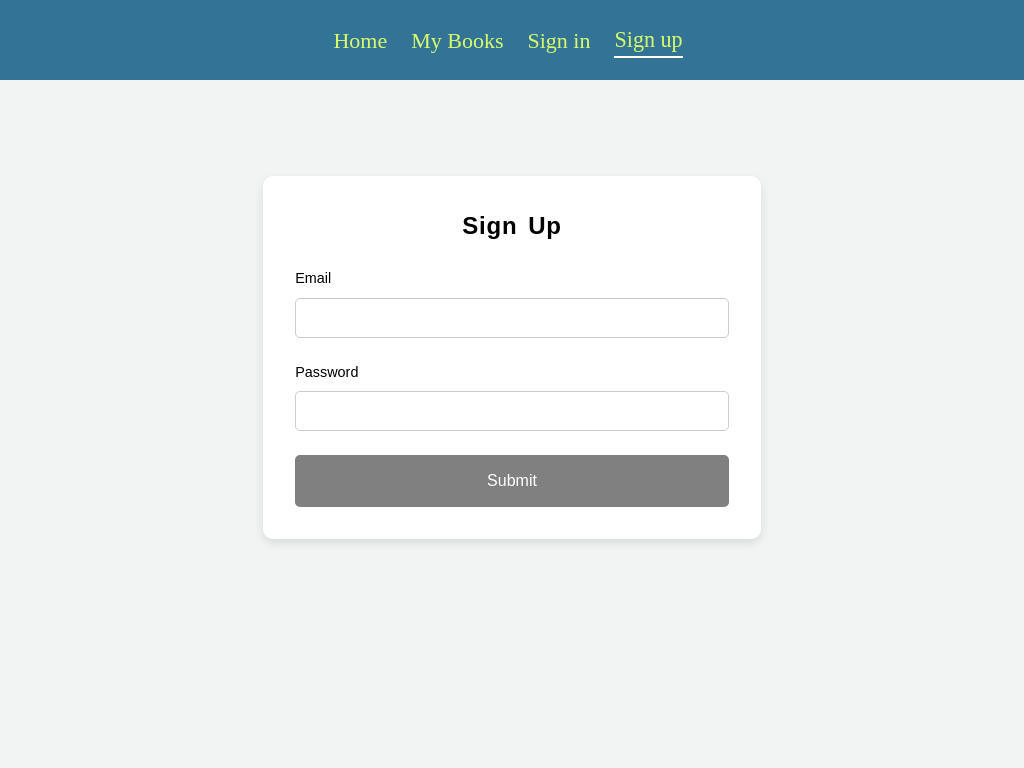
Test case: template spec › Email must be at least 3 characters long
Type "L" into the field with test id "validate-email-input".
click(512, 318); type("L")  # box [295,298,729,338]
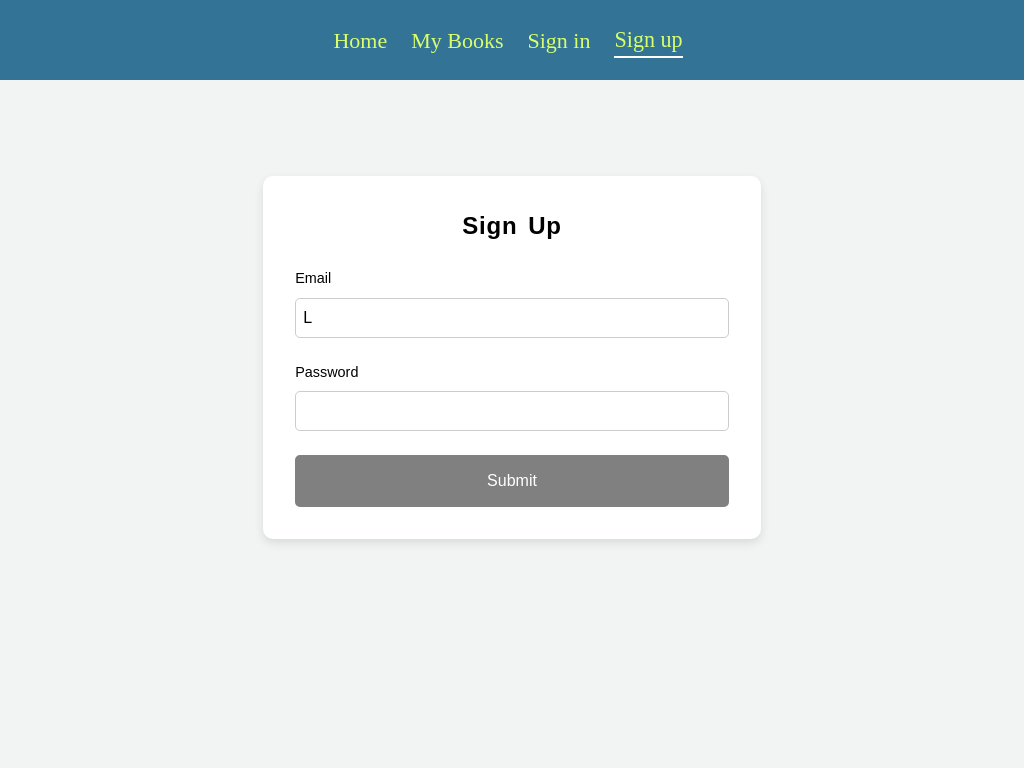
Type "password" into the password field with test id "validate-password-input".
click(512, 411); type("password")  # box [295,391,729,431]
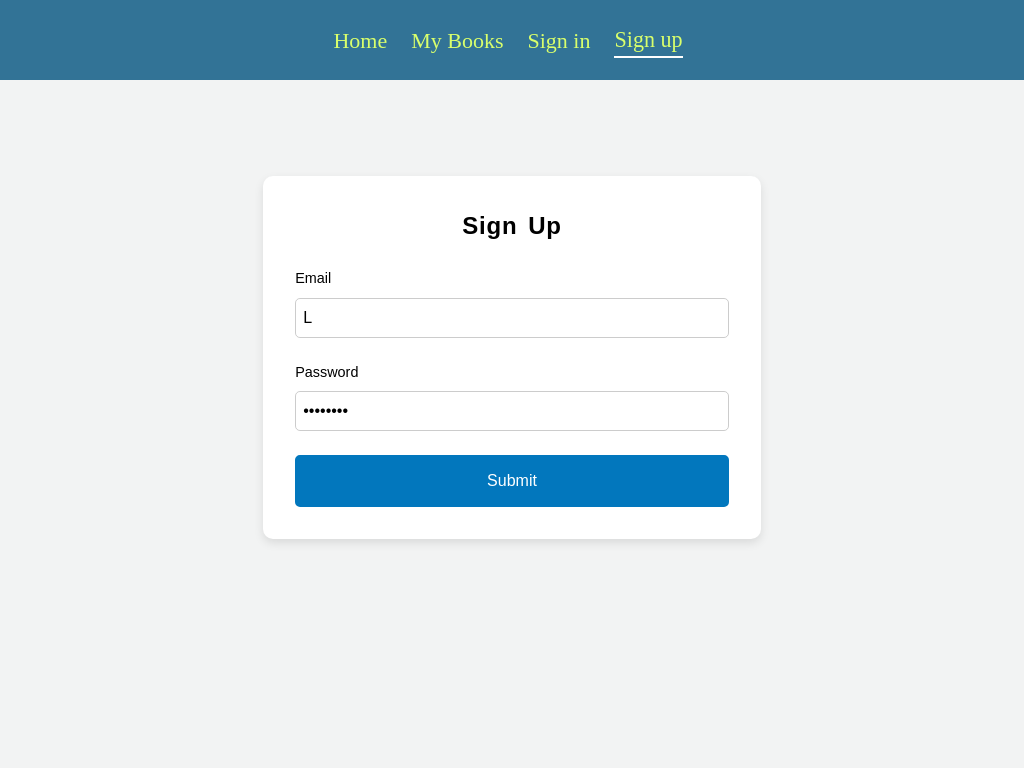
Click the button with test id "submit-button".
click(512, 481)  # box [295,455,729,507]
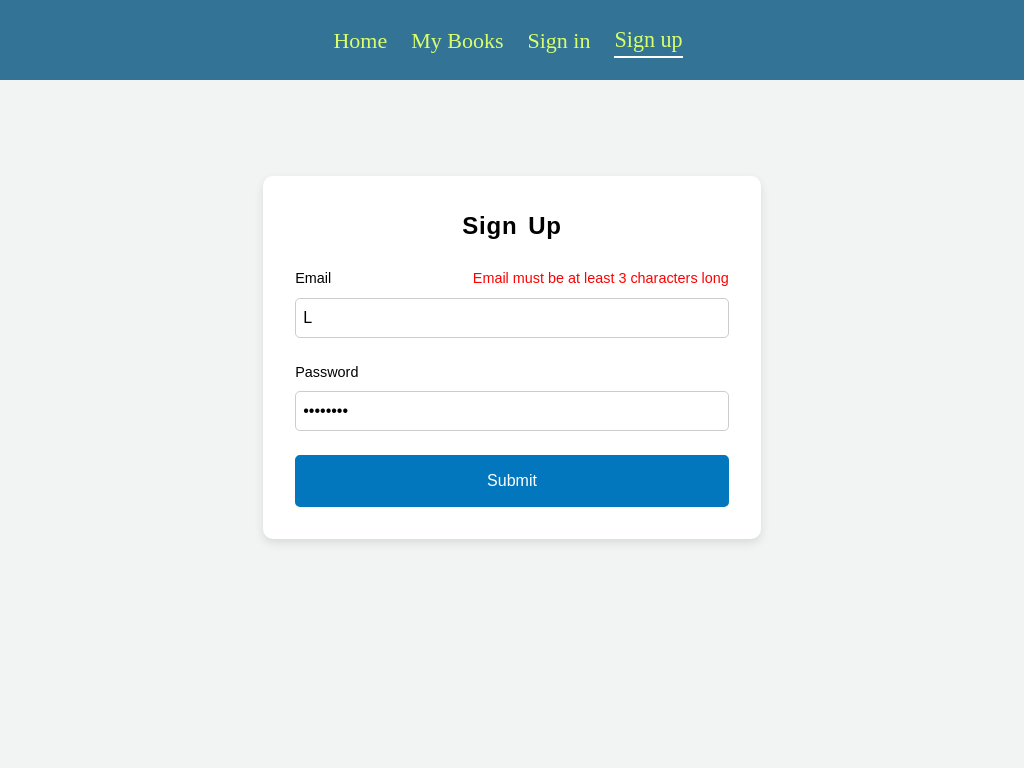
Result: the text "Email must be at least 3 characters long" is shown at [473,268,729,290]
